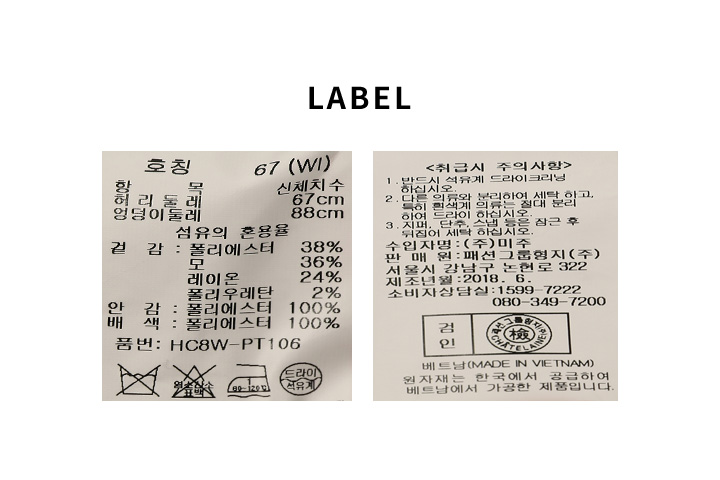KR_dry_clean_petroleum: (276, 356, 327, 398)
KR_iron_low_temp_with_cloth: (226, 357, 272, 400)
KR_no_bleach: (168, 360, 218, 400)
KR_no_wash: (116, 361, 160, 398)
